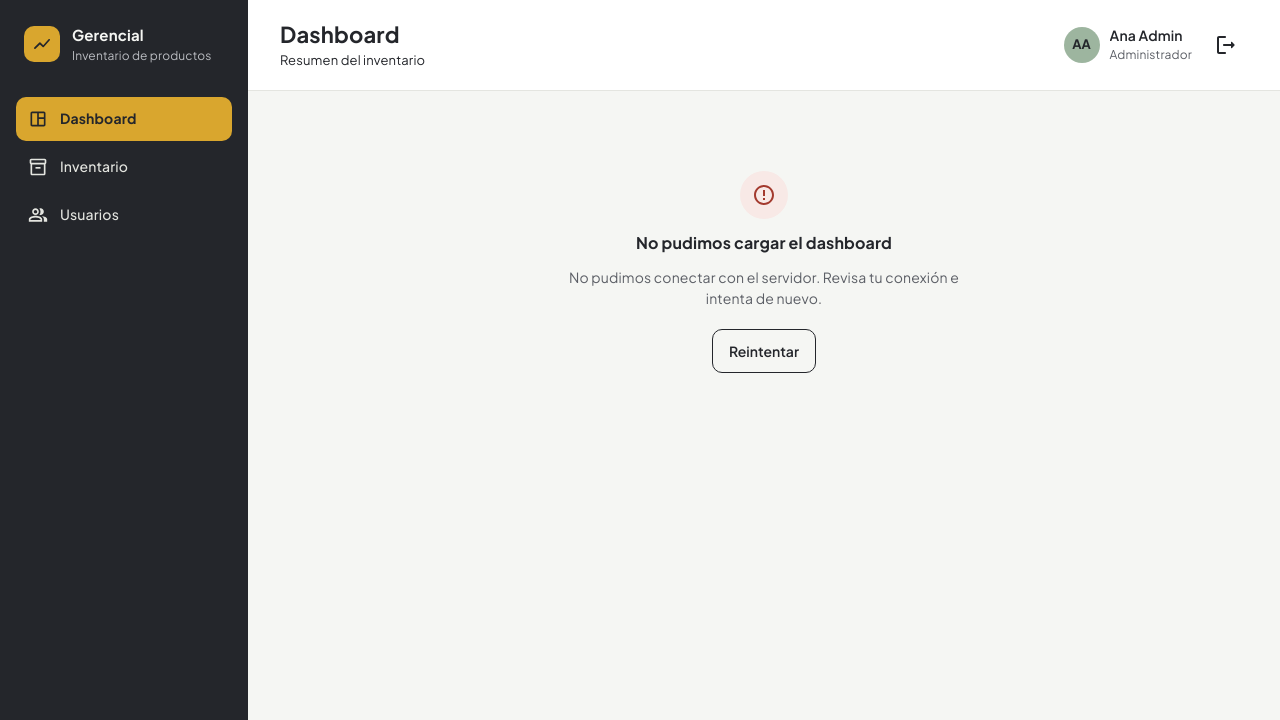
Scenario: auth routes › logs out from the top bar, clears the token and shows the login
The image size is (1280, 720).
Click the button named "Cerrar sesión" at [1226, 45], box [1204,23,1248,67]
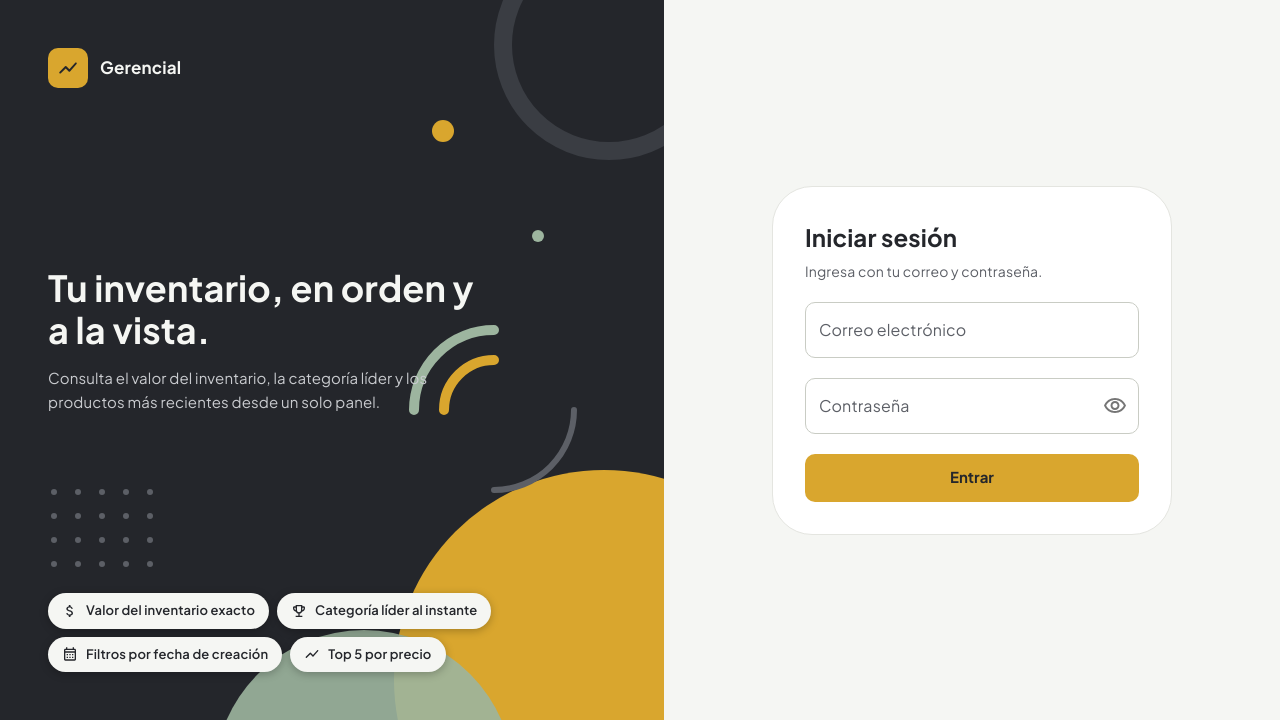
Expected: the heading "Iniciar sesión" is shown, [805,222,957,252]
